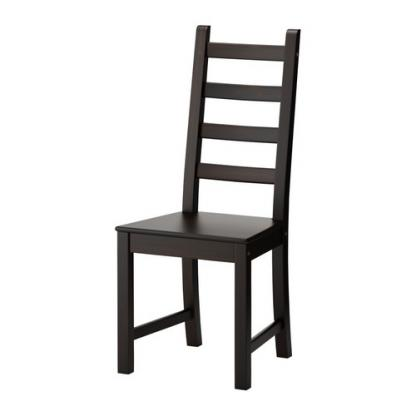Chair: (113, 23, 304, 390)
